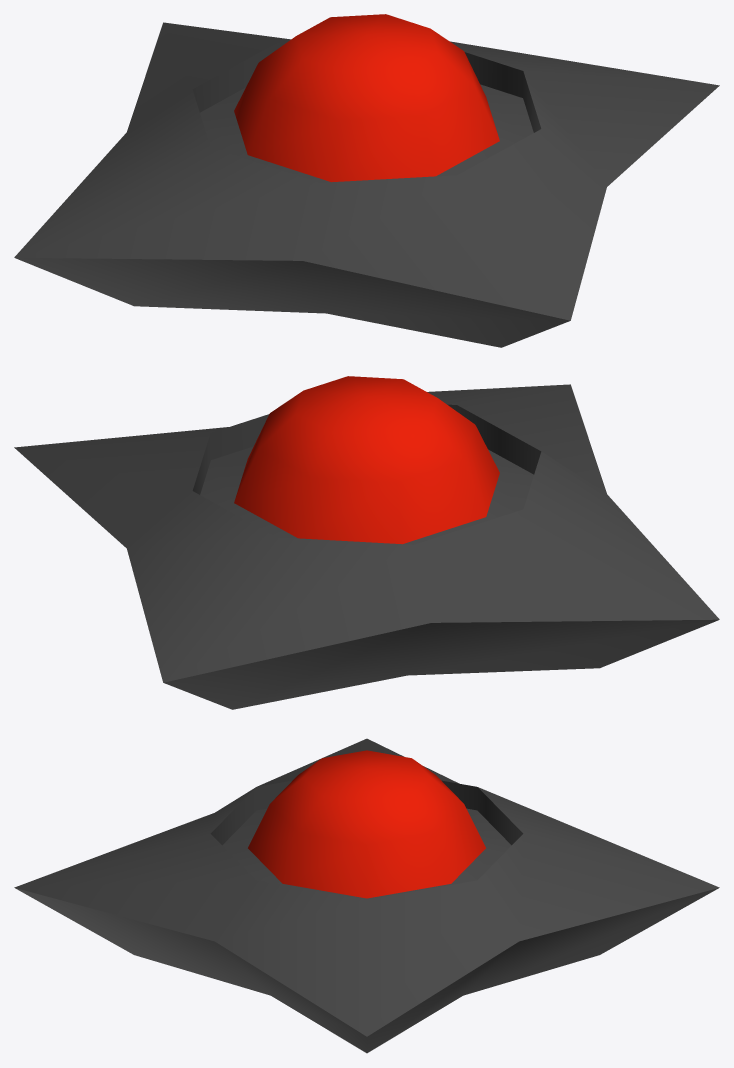
Rendered from floater_bomb.fbx.
3 renders of one model, top to bottom at view 1: azimuth 30°, elevation 25°; view 2: azimuth 150°, elevation 25°; view 3: azimuth 270°, elevation 25°, orthographic. The views are drawn at different scales.
Visible parts, largest first — view 1: bomb; view 2: bomb; view 3: bomb.
Part boxes in pixels (x1,y1,x2,y2): bomb: (14,14,719,347); bomb: (14,376,719,709); bomb: (14,738,719,1053).
Size of the model in its own units: 2 by 0.5795 by 2.
